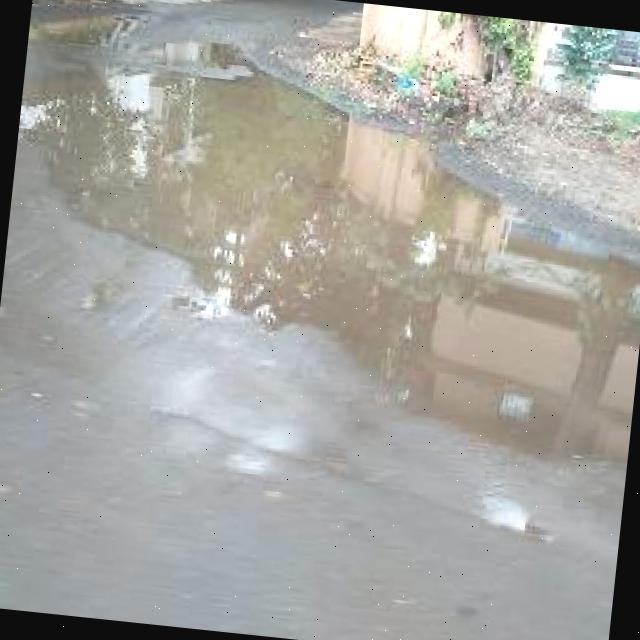stagnation: (0, 18, 640, 455)
